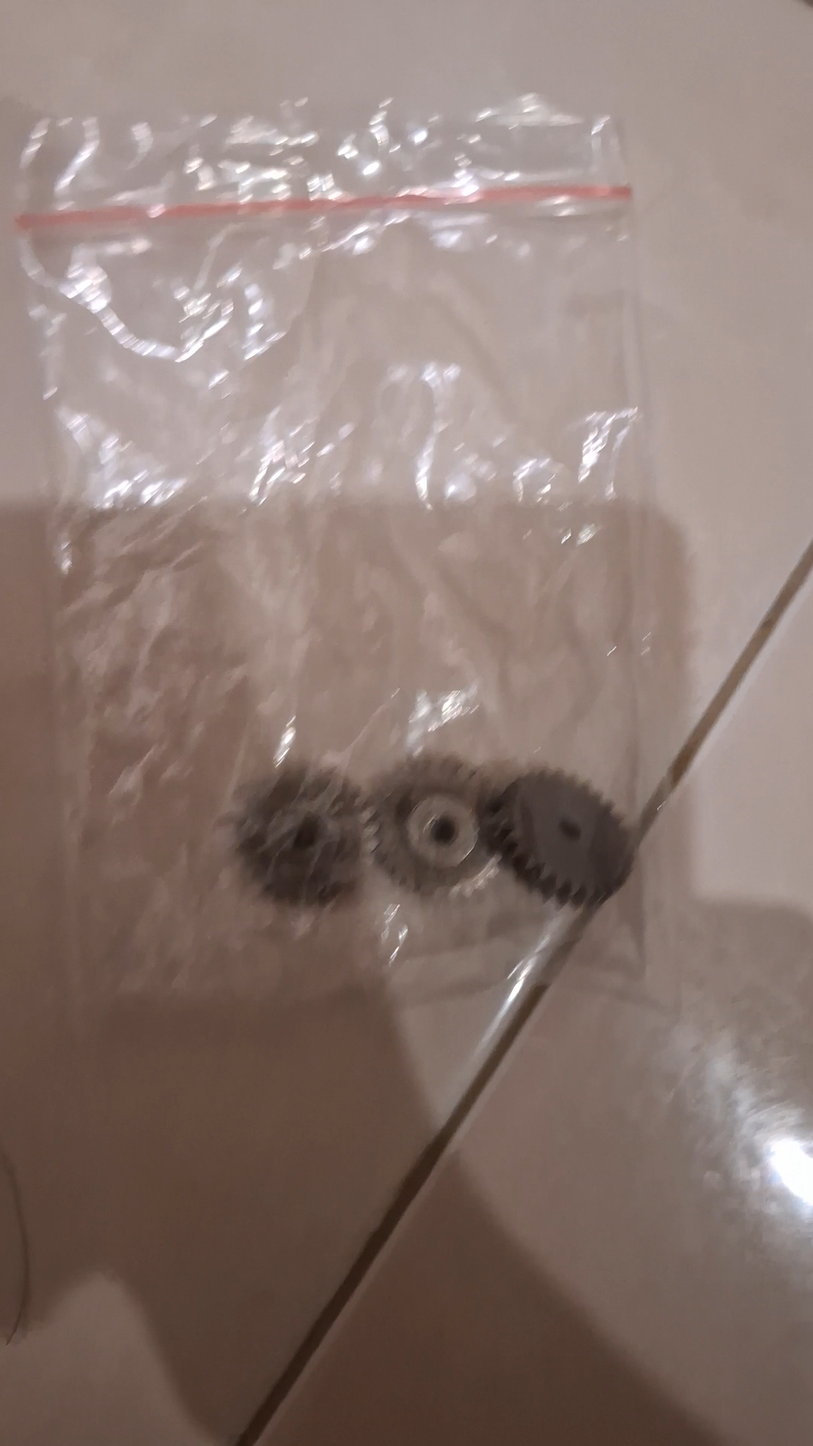spur gear: (484, 769, 632, 906), (236, 765, 362, 905), (368, 754, 492, 893)
